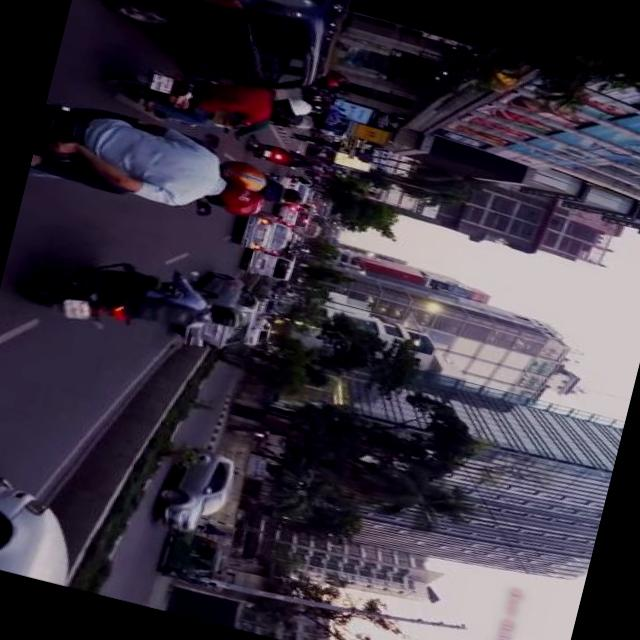bus: (295, 218, 323, 238)
car: (97, 0, 339, 104), (0, 470, 93, 586), (179, 264, 268, 359), (160, 443, 238, 539), (239, 206, 297, 256), (274, 174, 311, 207), (246, 314, 274, 348)
motorcycle: (31, 93, 230, 218), (23, 233, 195, 346), (100, 59, 275, 148), (161, 528, 227, 586), (252, 138, 306, 170)
truck: (248, 243, 302, 284), (280, 202, 316, 229)
